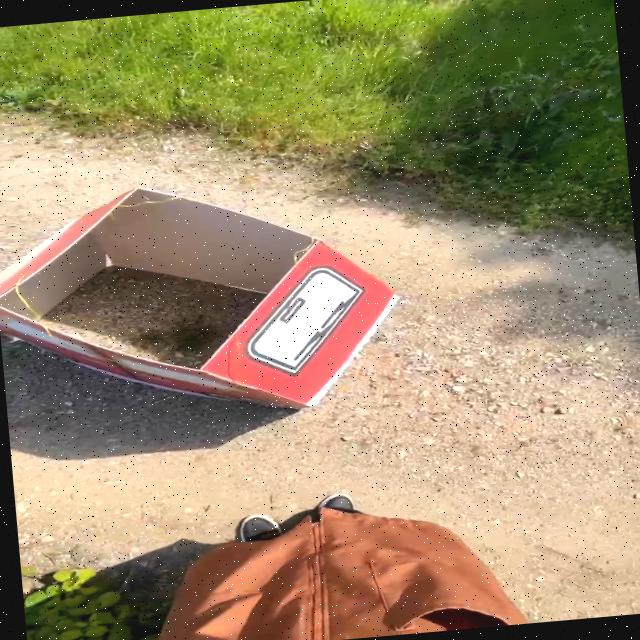red_car: (0, 143, 469, 456)
